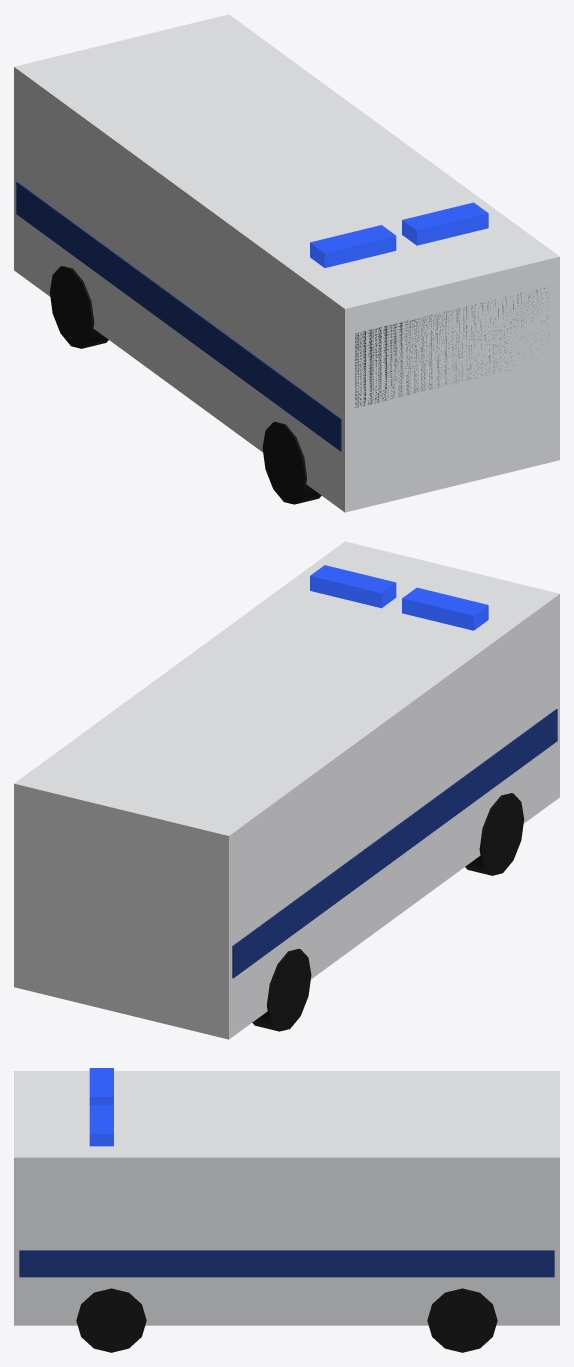
Rendered from prop_van.glb.
The picture shows the model from 3 angles, top to bottom: view 1: azimuth 30°, elevation 25°; view 2: azimuth 150°, elevation 25°; view 3: azimuth 270°, elevation 25°; orthographic projection. The views are drawn at different scales.
Visible parts, largest first — view 1: object 1, object 2, beacon (×2), object 6, object 4, object 3; view 2: object 1, object 2, beacon (×2), object 4, object 6; view 3: object 1, object 2, object 5, object 7, beacon (×2).
Boxes of the visible parts, box(x1,y1,x2,y2) form: object 1: box(14, 14, 559, 512); object 2: box(16, 182, 341, 451); beacon (×2): box(310, 202, 488, 267); object 6: box(49, 266, 108, 348); object 4: box(262, 421, 321, 504); object 3: box(355, 288, 546, 407); object 1: box(14, 541, 559, 1039); object 2: box(232, 709, 557, 978); beacon (×2): box(310, 565, 488, 630); object 4: box(465, 793, 524, 875); object 6: box(252, 948, 311, 1031); object 1: box(14, 1071, 559, 1325); object 2: box(19, 1250, 554, 1277); object 5: box(76, 1288, 146, 1352); object 7: box(427, 1288, 497, 1352); beacon (×2): box(89, 1068, 113, 1146).
Bounding box in the file's own units: 2.14 × 2.35 × 5.6.
